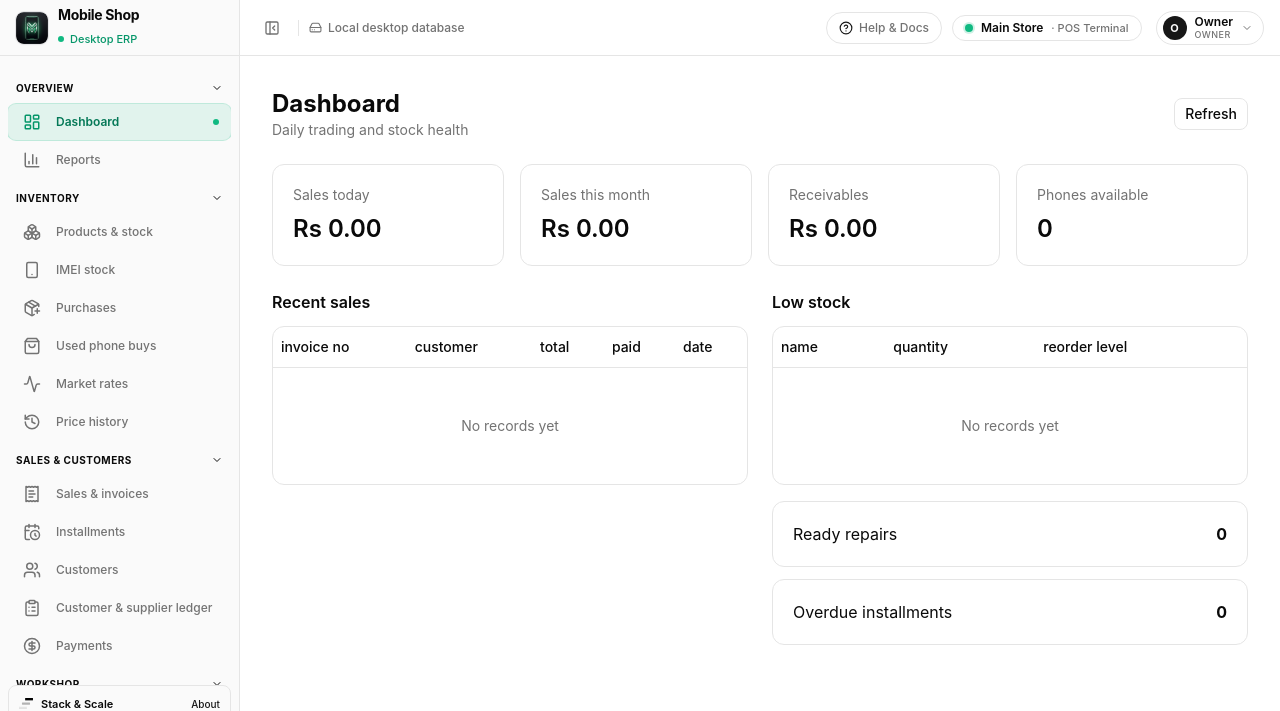
Scenario: desktop interface › groups the menu and reveals phone entry cards after category selection
Expected: the text "Sales today" is shown, [293,186,370,203]
Click the button "Inventory" at [120, 198], box [8,186,231,210]
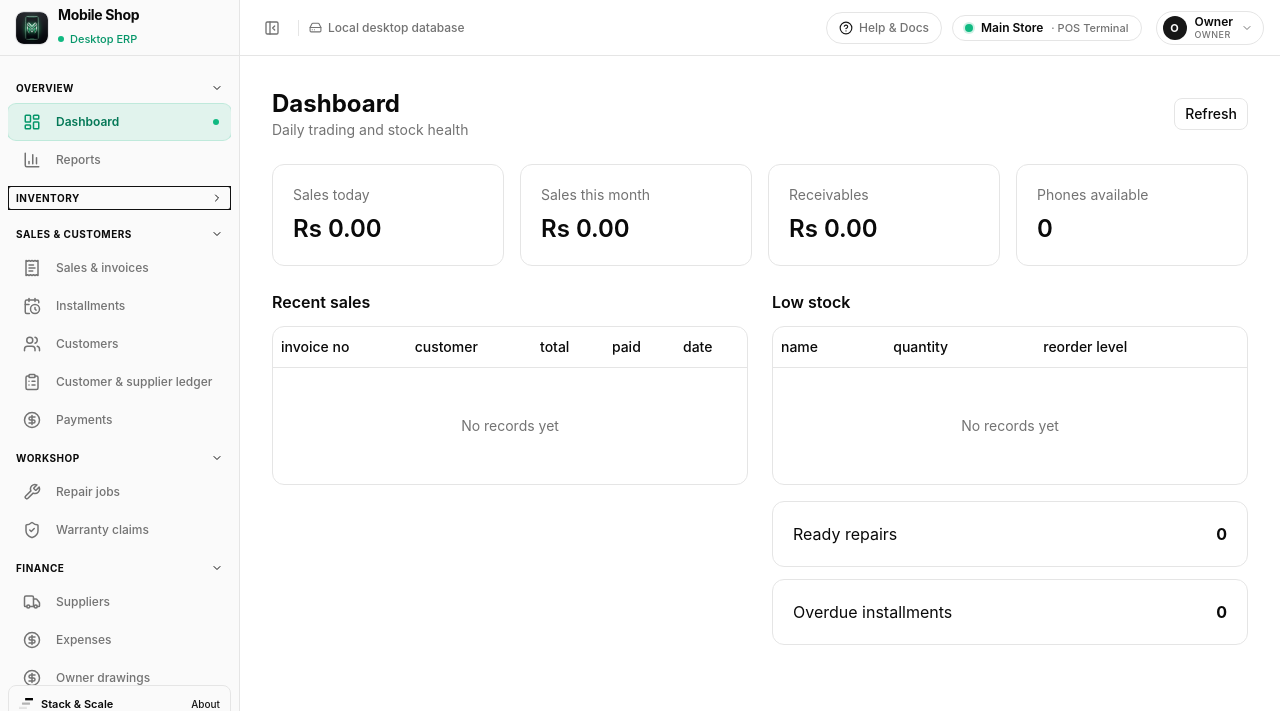
Now the button "Inventory" is collapsed
Now the button "Products & stock" is gone
Click the button "Inventory" at [120, 198], box [8,186,231,210]
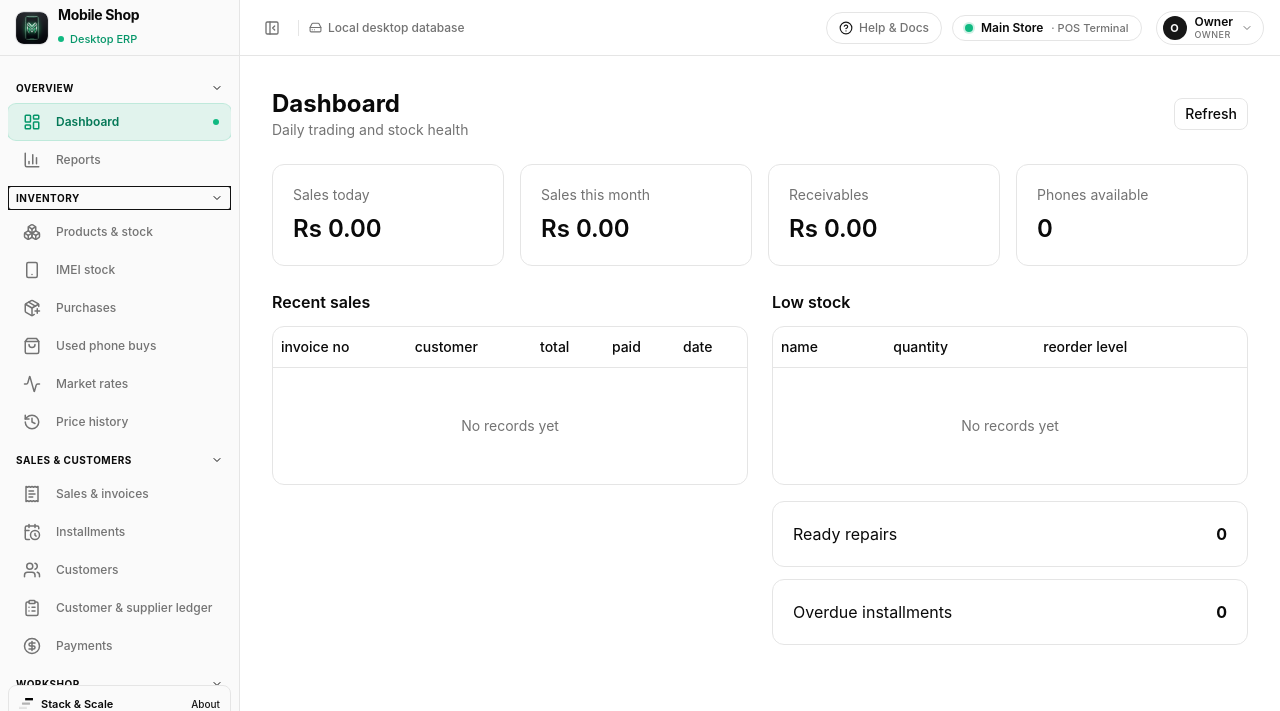
Click the button "Products & stock" at [120, 232], box [8,214,231,250]
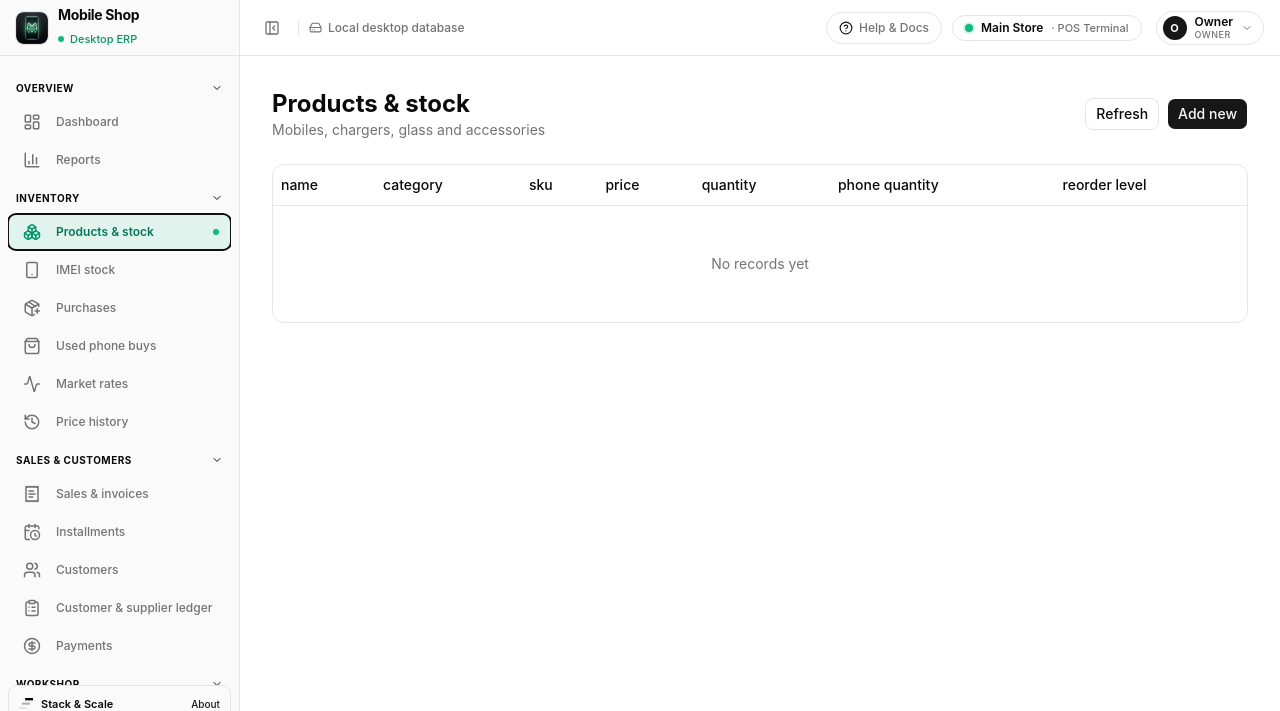
Click the button "Add new" at [1208, 114], box [1167,98,1248,130]
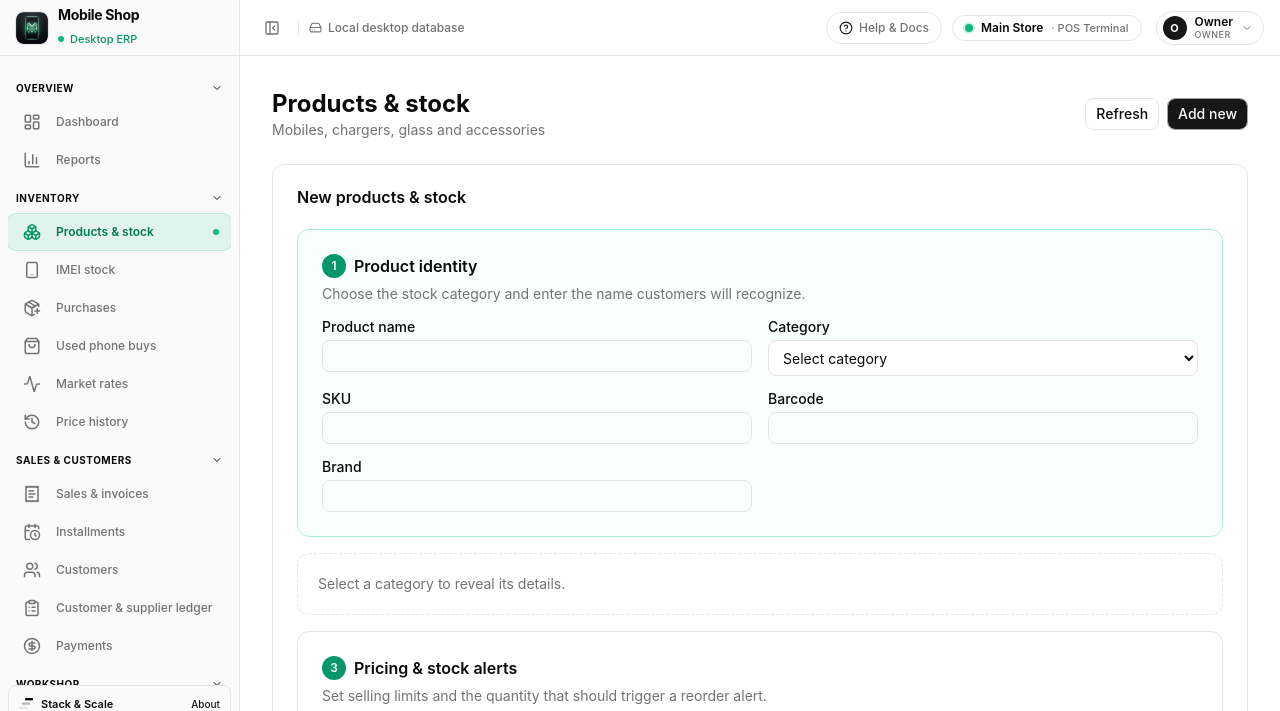
Expected: the text "Phone specifications" is not shown
Select "phone" in the dropdown labelled "Category" at [983, 358], box [768,340,1198,376]
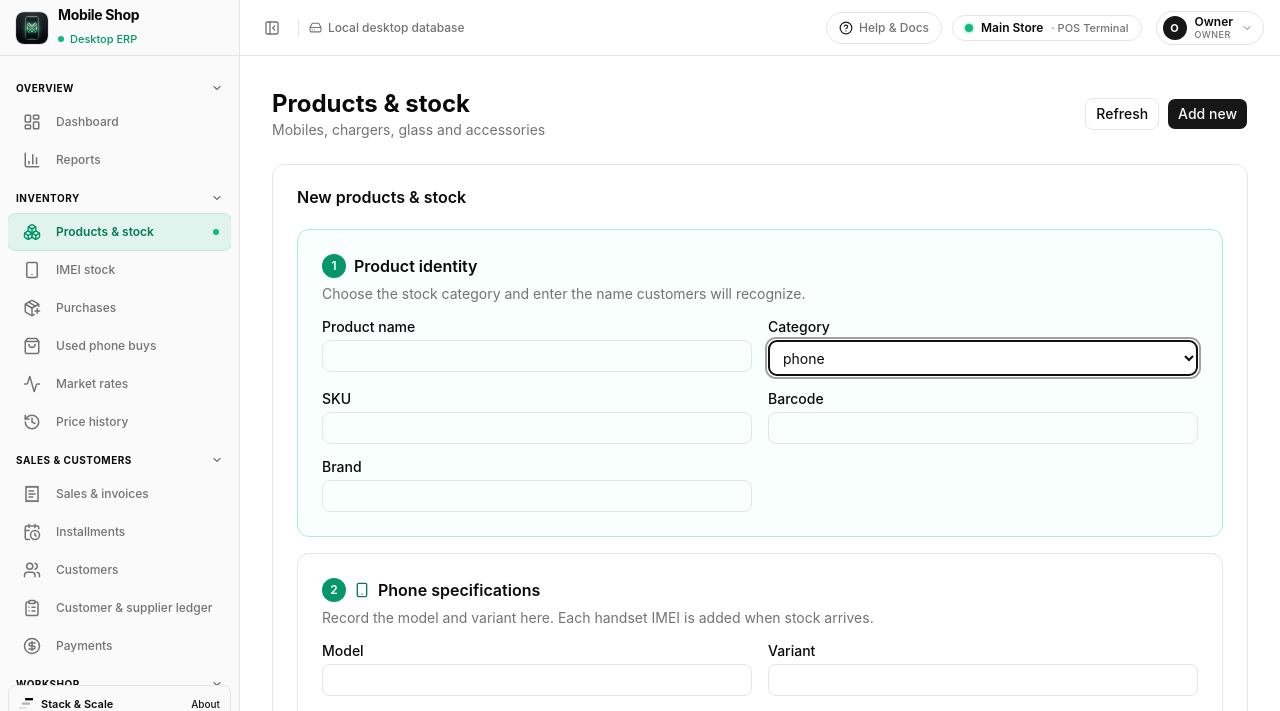
Now the field labelled "Model" is shown, box [322,664,752,696]
